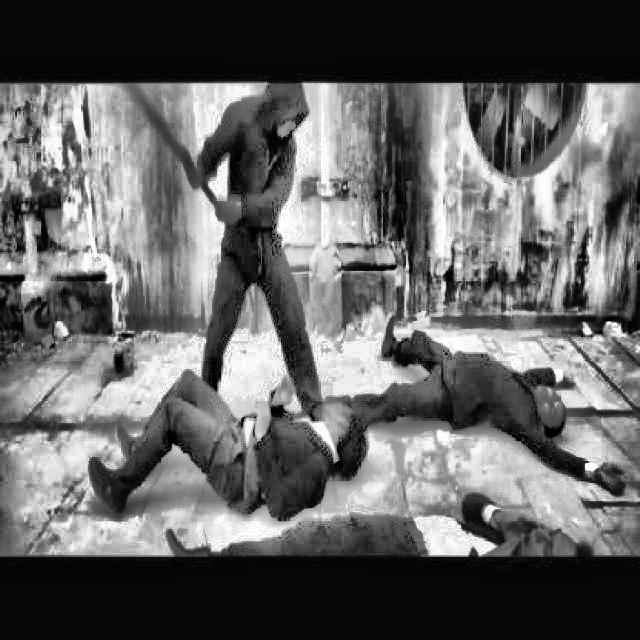robbery: (83, 79, 636, 562)
